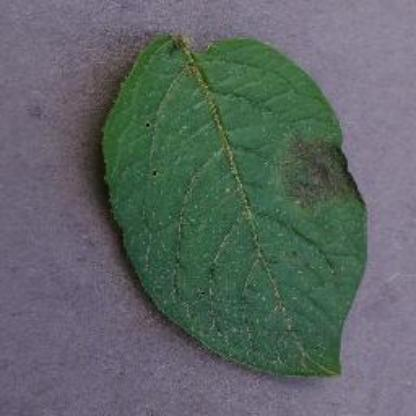Late-Blight: (97, 28, 381, 384)
